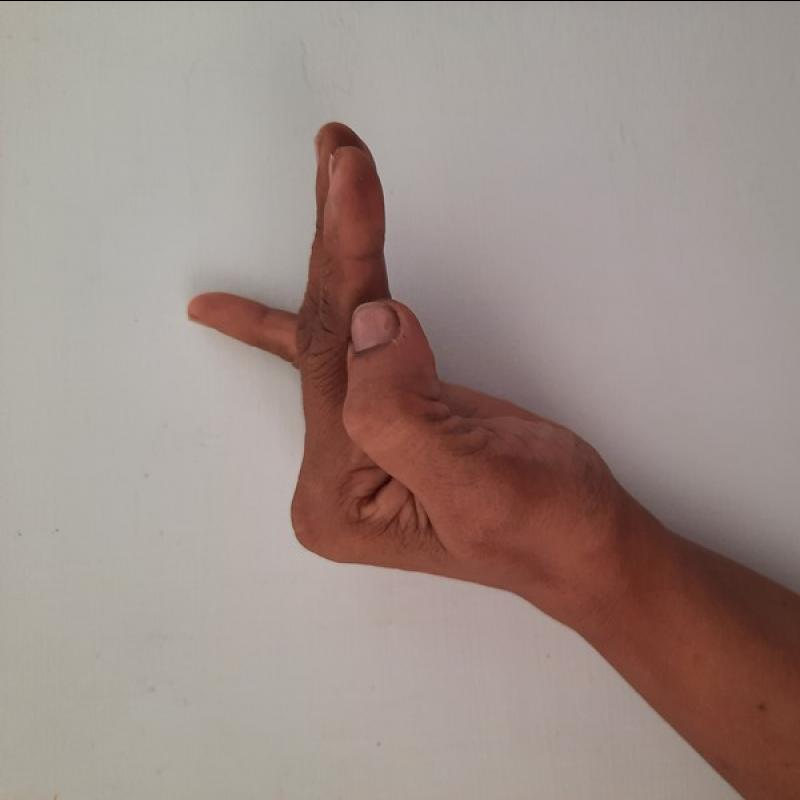Kartharee Mukham: (170, 114, 645, 600)
